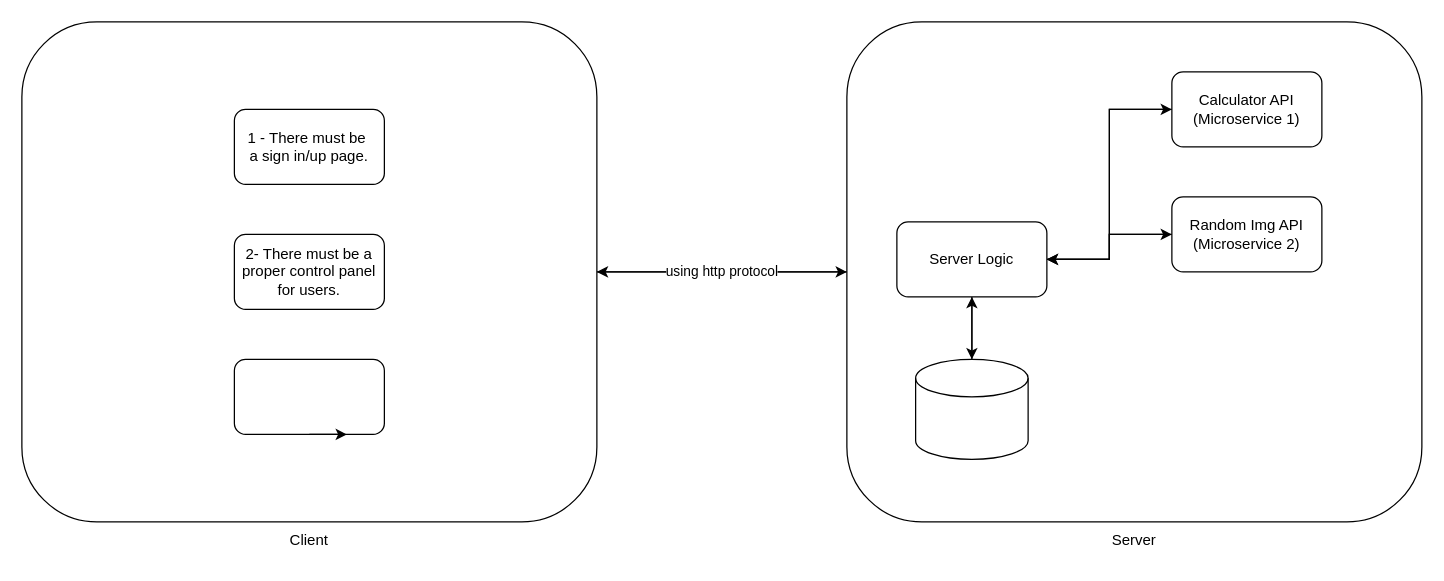
The diagram is 1444 pixels wide and 581 high, and some of its shapes have lost their labels. Each missing label, with the centre of its shape:
"3 - Use cockies to save logged in users!" goes at pixel 308 396.
"Registered Users" goes at pixel 971 408.
